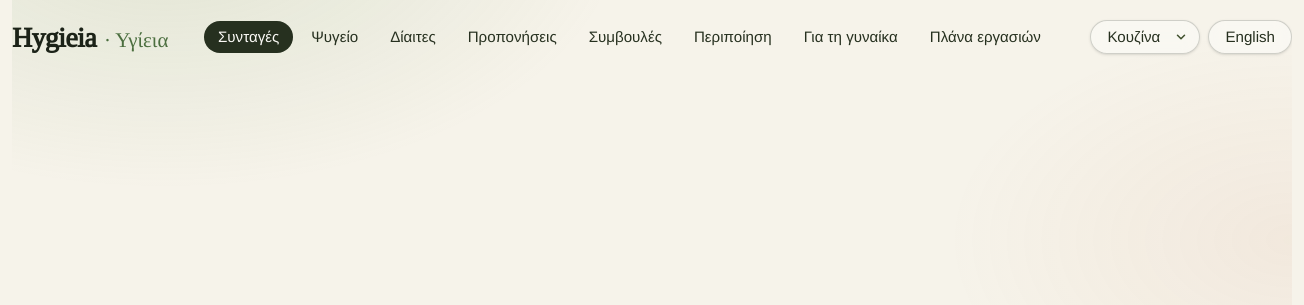
Test: SiteHeader › carries the language switch, which flips the nav labels too
Click the button "English": (1250, 37) [1208,20,1292,54]
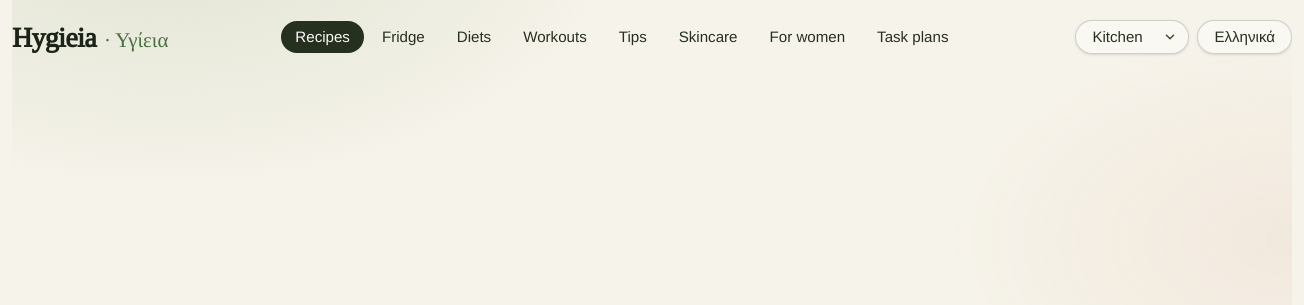
expect the button "Ελληνικά" is shown: met, box [1197,20,1292,54]
expect the navigation bar named "Main navigation" is shown: met, box [281,21,962,53]
